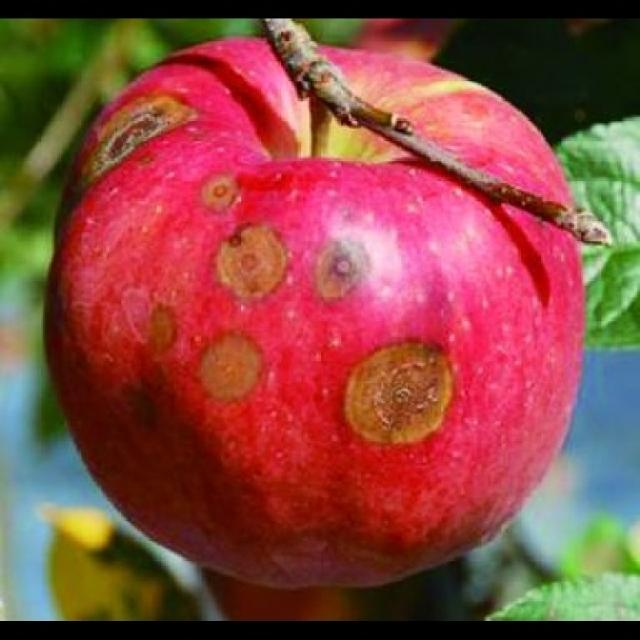Rotten Apple: (42, 31, 589, 584)
